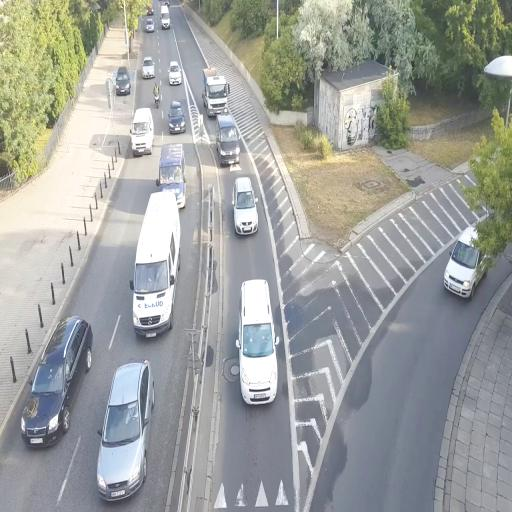vehicle: (20, 316, 92, 450), (96, 359, 156, 501), (132, 190, 180, 339), (238, 278, 278, 405), (444, 232, 490, 301), (157, 144, 187, 210), (158, 141, 186, 210), (232, 175, 260, 237), (214, 112, 242, 168), (130, 107, 155, 157), (203, 72, 229, 114), (168, 99, 186, 134), (114, 68, 131, 96), (168, 60, 183, 86), (142, 58, 156, 79)
